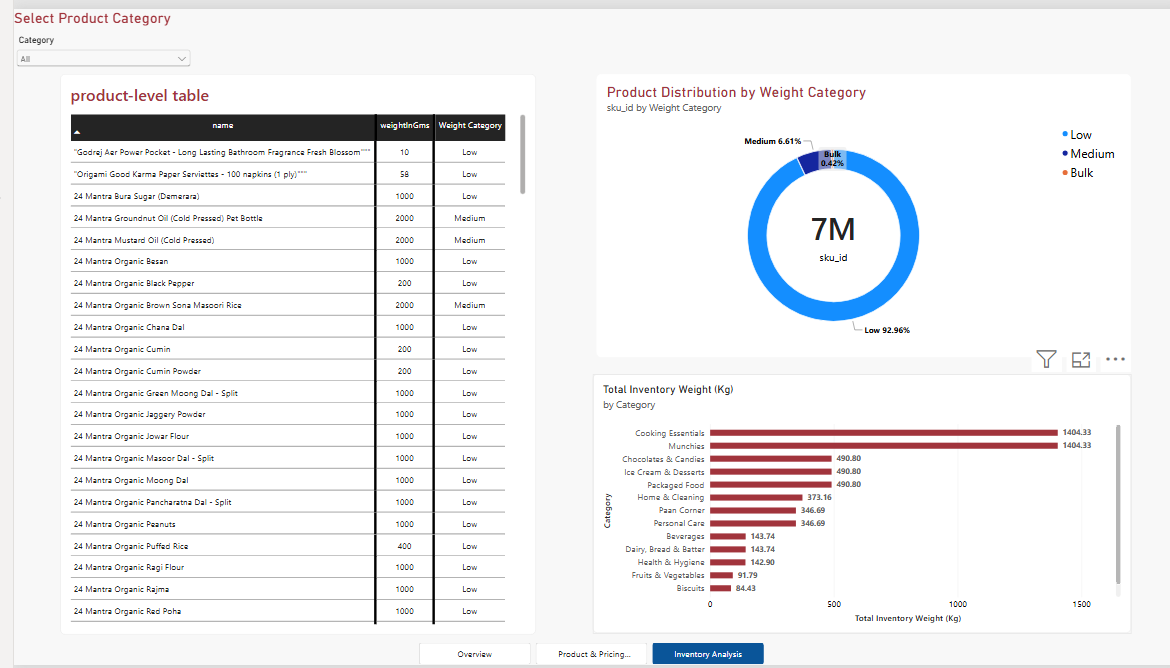

The page's visual inventory and layout, read from the dashboard file:
{"tool":"powerbi","page":{"name":"Inventory Analysis","canvas":[1920,1080],"ordinal":2},"visuals":[{"type":"donutChart","title":"Product Distribution by Weight Category","fields":{"Category":["zepto_cleaned.Weight Category"],"Y":["Sum(zepto_cleaned.sku_id)"]},"box":[960,106.7,880,466.7],"z":0},{"type":"tableEx","title":"product-level table","fields":{"Values":["zepto_cleaned.name","Sum(zepto_cleaned.weightInGms)","zepto_cleaned.Weight Category"]},"box":[76.7,106.7,783.3,923.3],"z":1000},{"type":"clusteredBarChart","fields":{"Category":["zepto_cleaned.Category"],"Y":["zepto_cleaned.Total Inventory Weight (Kg)"]},"box":[954,602,886.7,426.7],"z":2000},{"type":"slicer","title":"Select Product Category","fields":{"Values":["zepto_cleaned.Category"]},"box":[0,0,295,280],"z":2001},{"type":"pageNavigator","box":[666.7,1043.3,570,36],"z":2002}]}

Visuals, with their boxes in screenshot pixels (x1, y1, x2, y2), scaled from the page's 1920x1080 canvas onto the 1170x668 screenshot:
"Product Distribution by Weight Category" donutChart: 585/66/1121/355
"product-level table" tableEx: 47/66/524/637
clusteredBarChart - zepto_cleaned.Category x zepto_cleaned.Total Inventory Weight (Kg): 581/372/1122/636
"Select Product Category" slicer: 0/0/180/173
pageNavigator: 406/645/754/667
